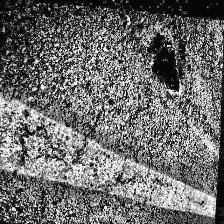pothole: (138, 17, 196, 99)
